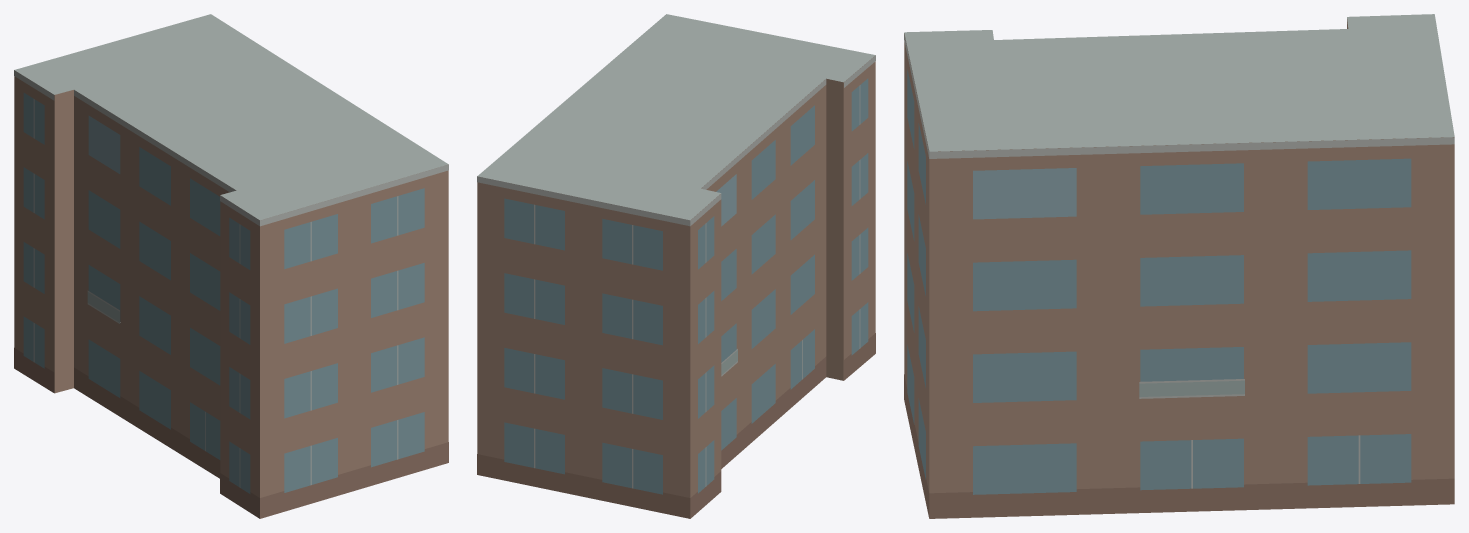
Rendered from survey-upis-32870671.glb.
The picture shows the model from 3 angles, left to right: view 1: azimuth 30°, elevation 25°; view 2: azimuth 150°, elevation 25°; view 3: azimuth 270°, elevation 25°; orthographic projection. The views are drawn at different scales.
Parts seen in each view (by area): view 1: survey-upis-32870671.tmp; view 2: survey-upis-32870671.tmp; view 3: survey-upis-32870671.tmp.
Part boxes in pixels (left/top/right/bottom): survey-upis-32870671.tmp: left=14, top=14, right=448, bottom=518; survey-upis-32870671.tmp: left=477, top=14, right=875, bottom=518; survey-upis-32870671.tmp: left=904, top=14, right=1454, bottom=518.
Bounding box in the file's own units: 9.82 × 12.2 × 16.59.
